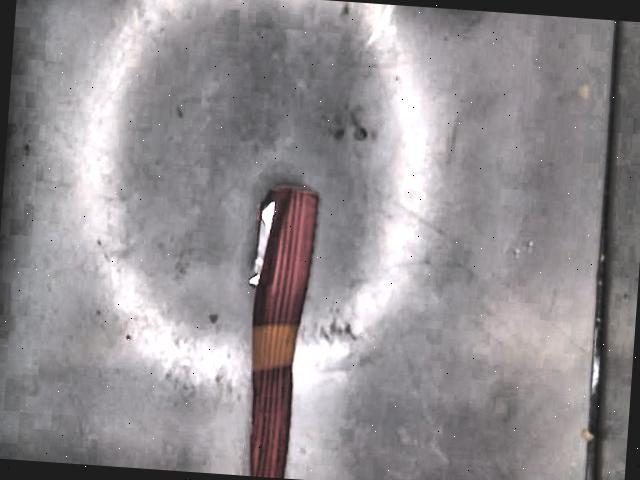Plastic: (246, 186, 319, 478)
